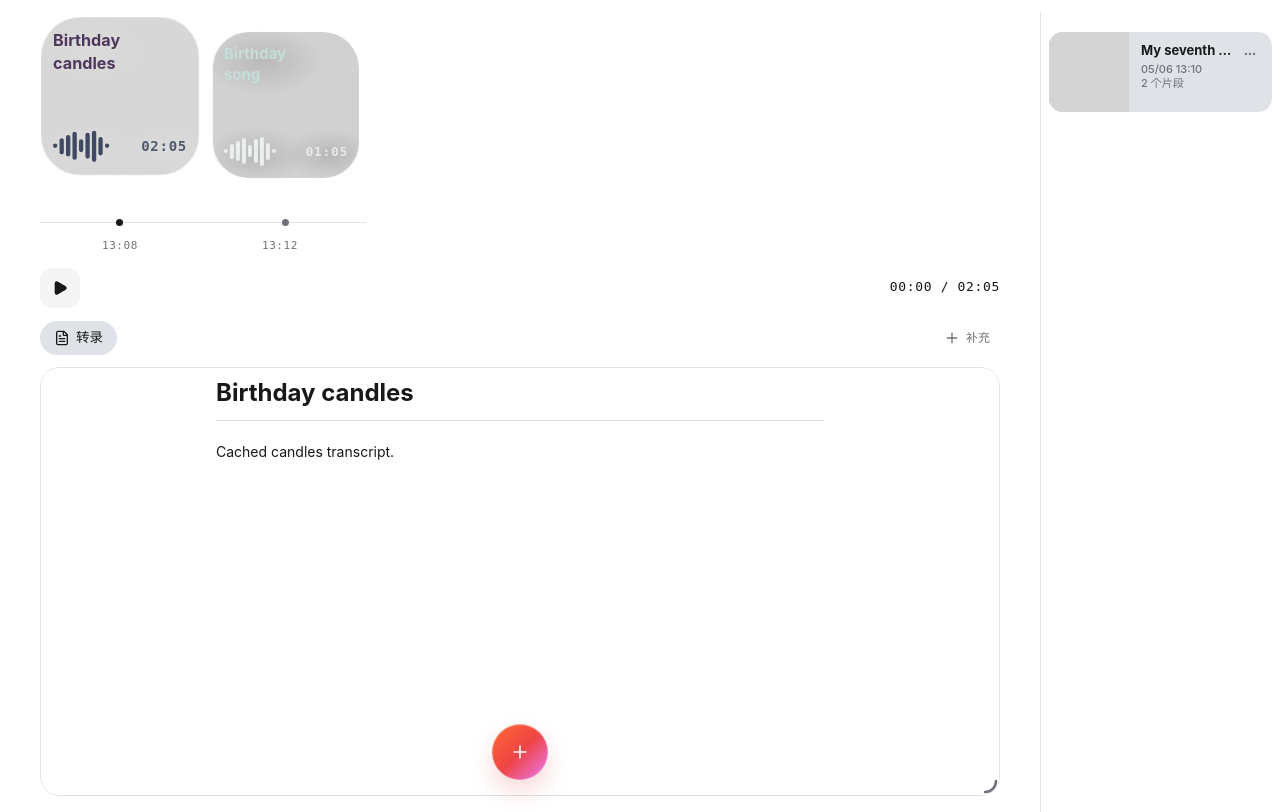
it: LoadedWorkspaceFrame › reuses cached Segment content and decoded playback waveform when returning to a Segment
The width and height of the screenshot is (1280, 812).
Expected: the text box "Cached candles transcript." is shown, x1=216 y1=443 x2=394 y2=460
Click the button with aria-label "选择片段 Birthday song" at (286, 105), box x1=212 y1=31 x2=360 y2=179
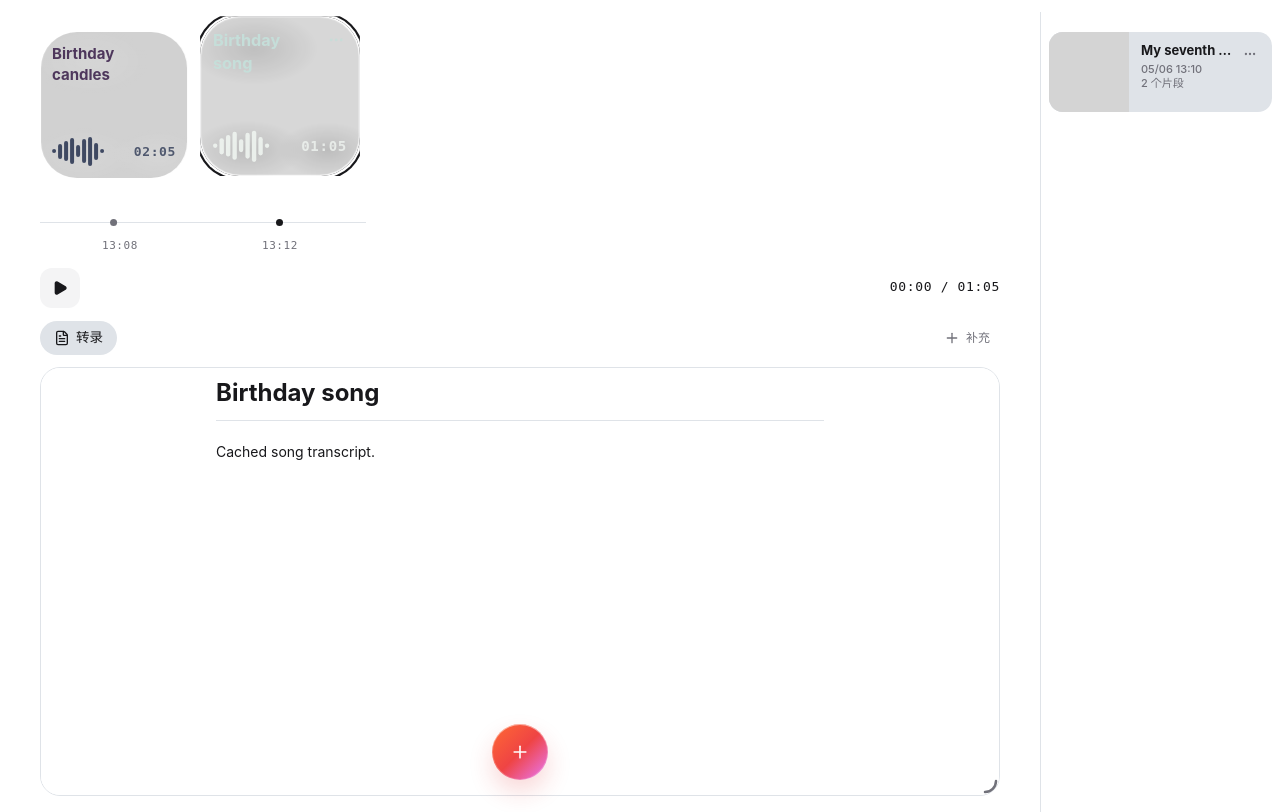
Result: the text box "Cached song transcript." is shown at x1=216 y1=443 x2=375 y2=460
Click the button with aria-label "选择片段 Birthday candles" at (114, 105), box x1=40 y1=31 x2=188 y2=179
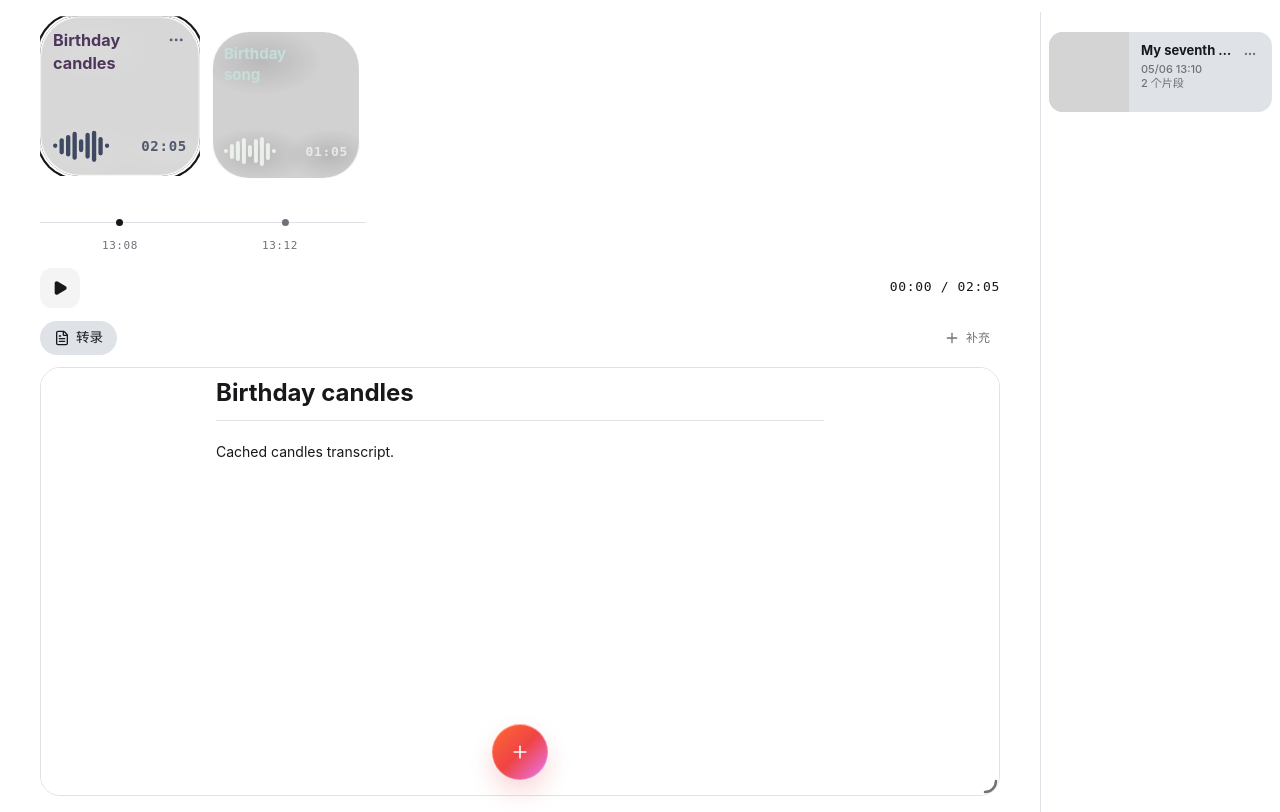
Result: the text box "Cached candles transcript." is shown at x1=216 y1=443 x2=394 y2=460
